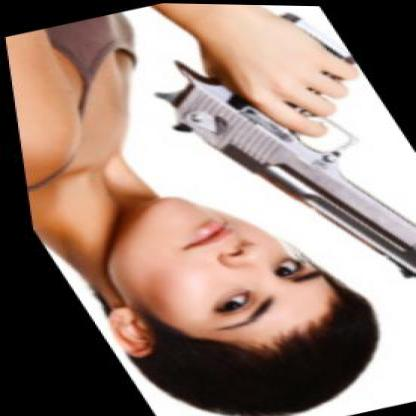pistol: (108, 1, 412, 317)
